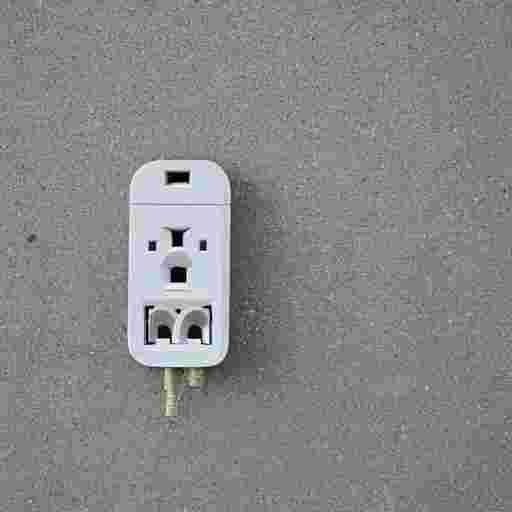power outlet: (128, 160, 230, 367)
